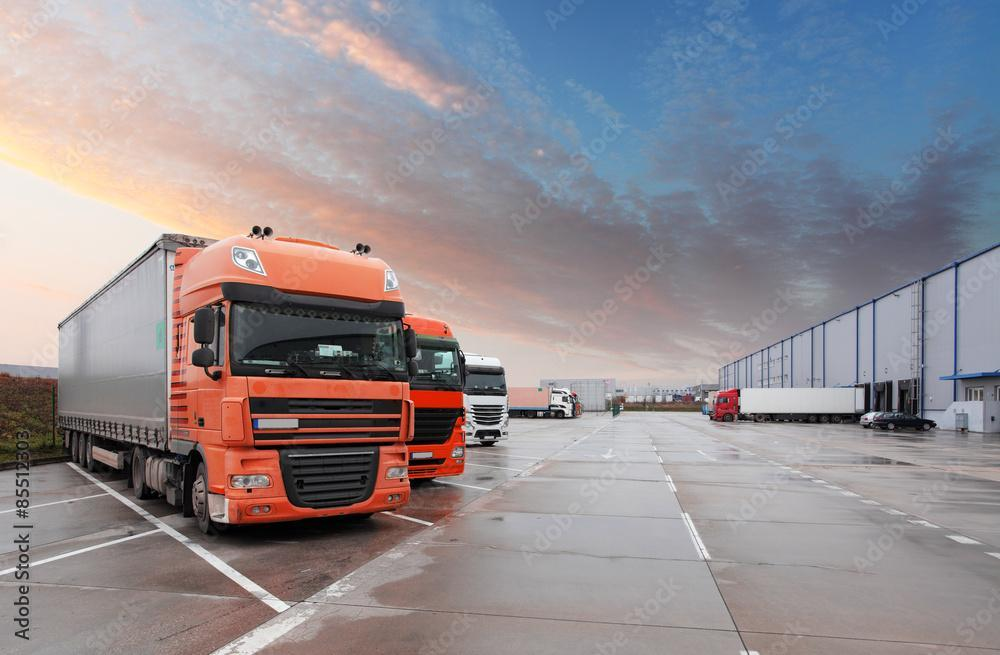truck: (32, 233, 413, 552)
